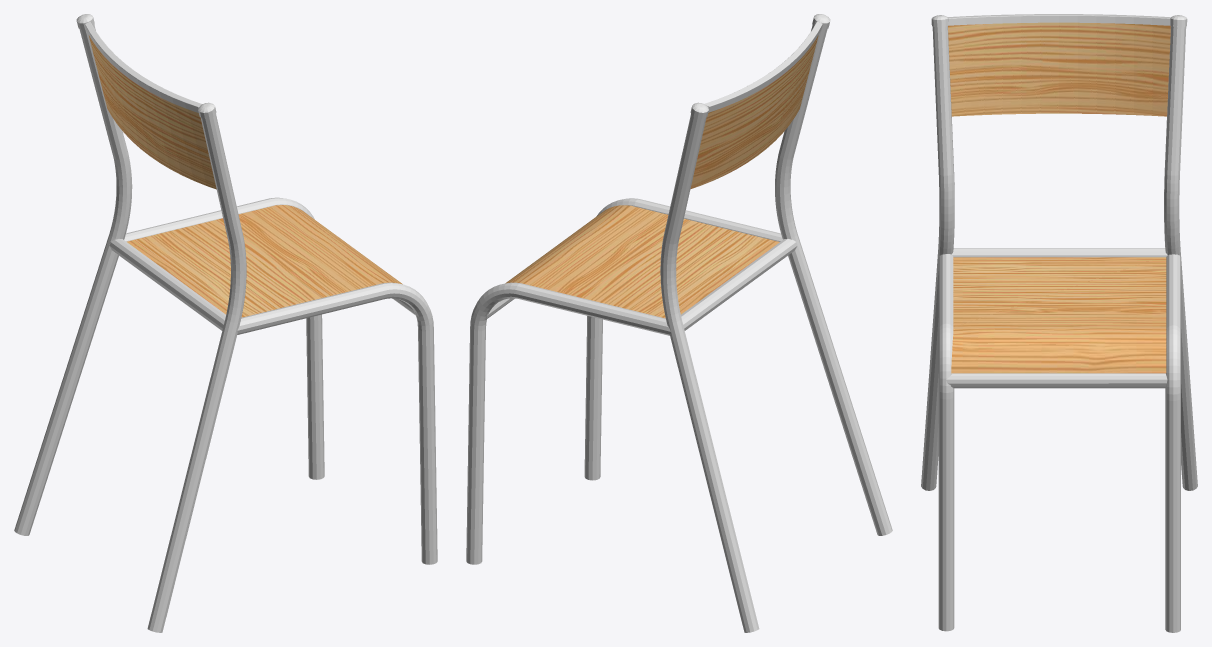
Rendered from chaise 1.fbx.
3 views of the same model, side by side, from view 1: azimuth 30°, elevation 25°; view 2: azimuth 150°, elevation 25°; view 3: azimuth 270°, elevation 25° (orthographic).
Visible parts, largest first — view 1: Chaise2, Chaise2.001, Chaise2.002; view 2: Chaise2, Chaise2.001, Chaise2.002; view 3: Chaise2, Chaise2.001, Chaise2.002.
Part boxes in pixels (<box>): Chaise2: <box>14,14,437,632</box>; Chaise2.001: <box>127,205,402,317</box>; Chaise2.002: <box>88,35,216,189</box>; Chaise2: <box>466,14,892,632</box>; Chaise2.001: <box>505,205,779,318</box>; Chaise2.002: <box>690,35,818,189</box>; Chaise2: <box>921,14,1197,632</box>; Chaise2.001: <box>951,257,1166,373</box>; Chaise2.002: <box>948,22,1170,116</box>.
Size of the model in its own units: 4996 by 8201 by 4076.
Materials: 1 (1 with a texture image).
